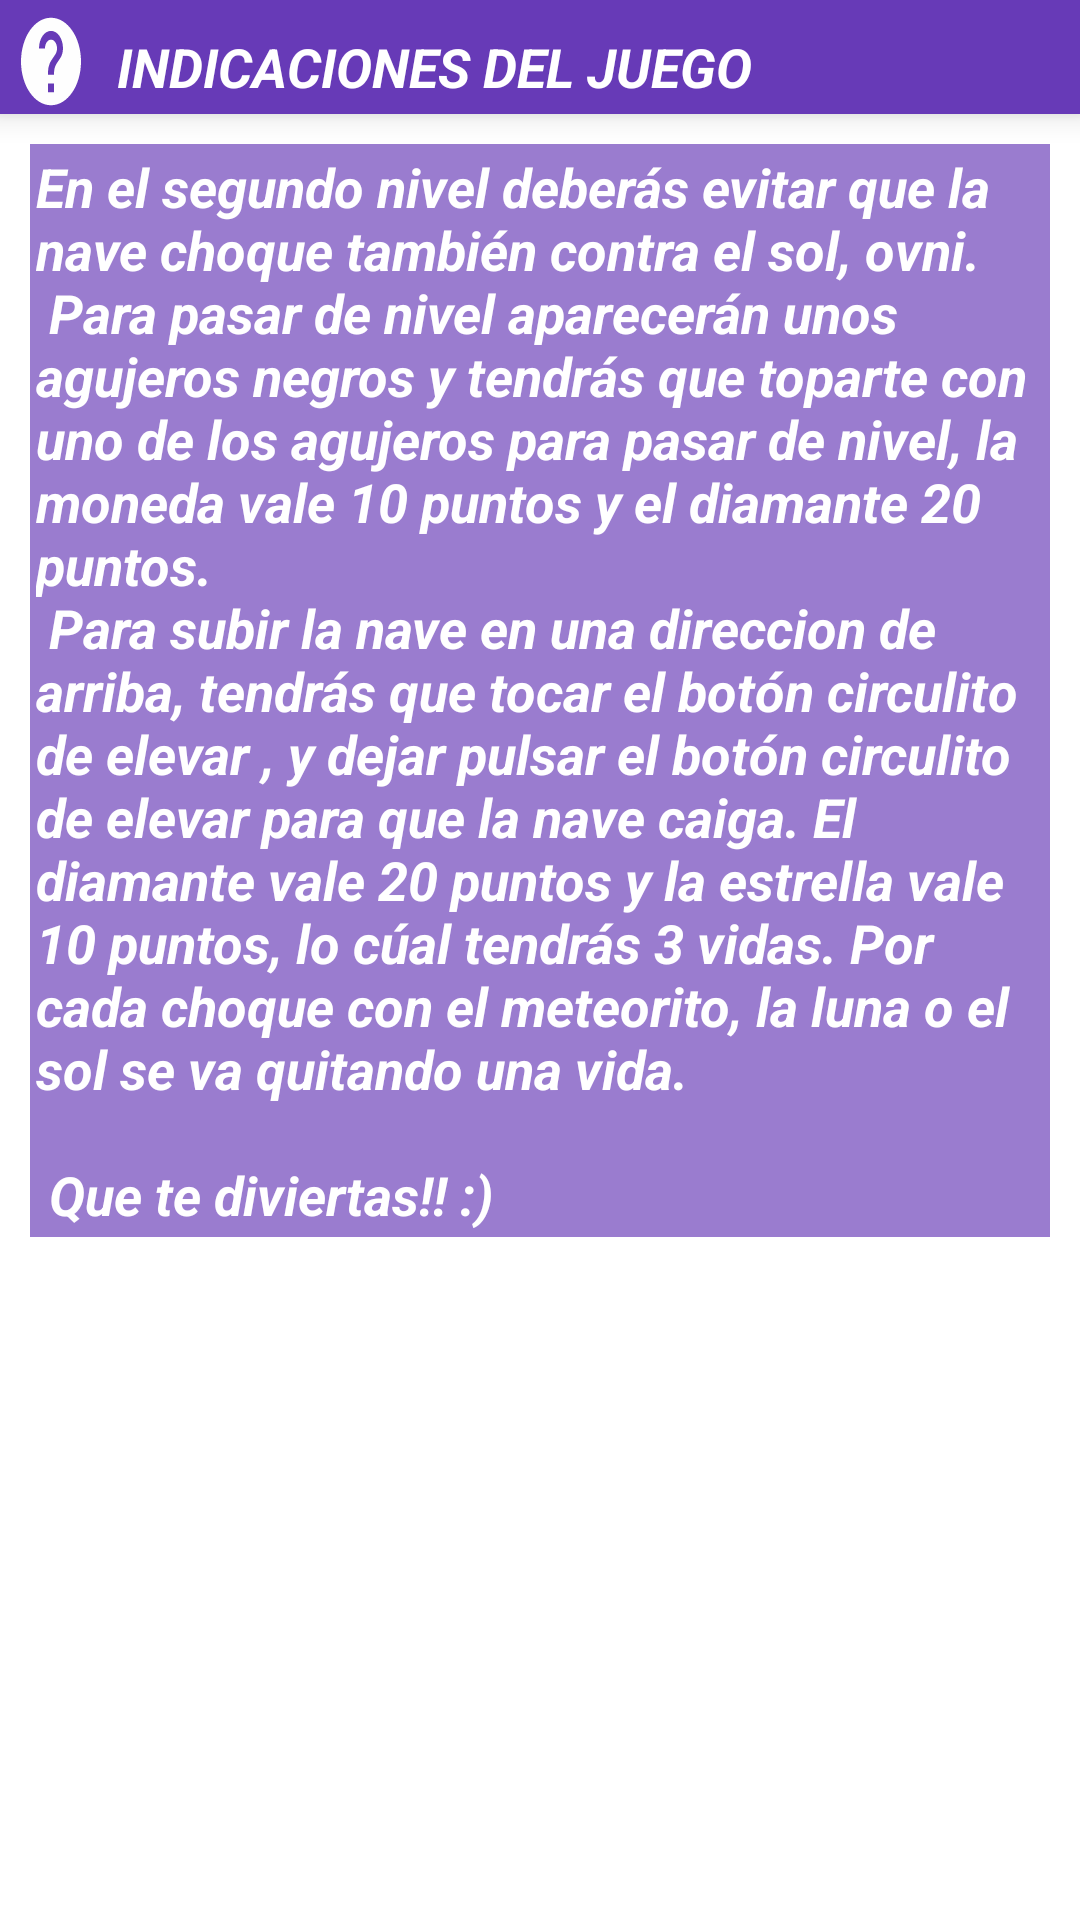

Icons on this 1080 x 1920 Android screen, each with the point to tap as point (x, y):
ayuda: point (51, 61)
